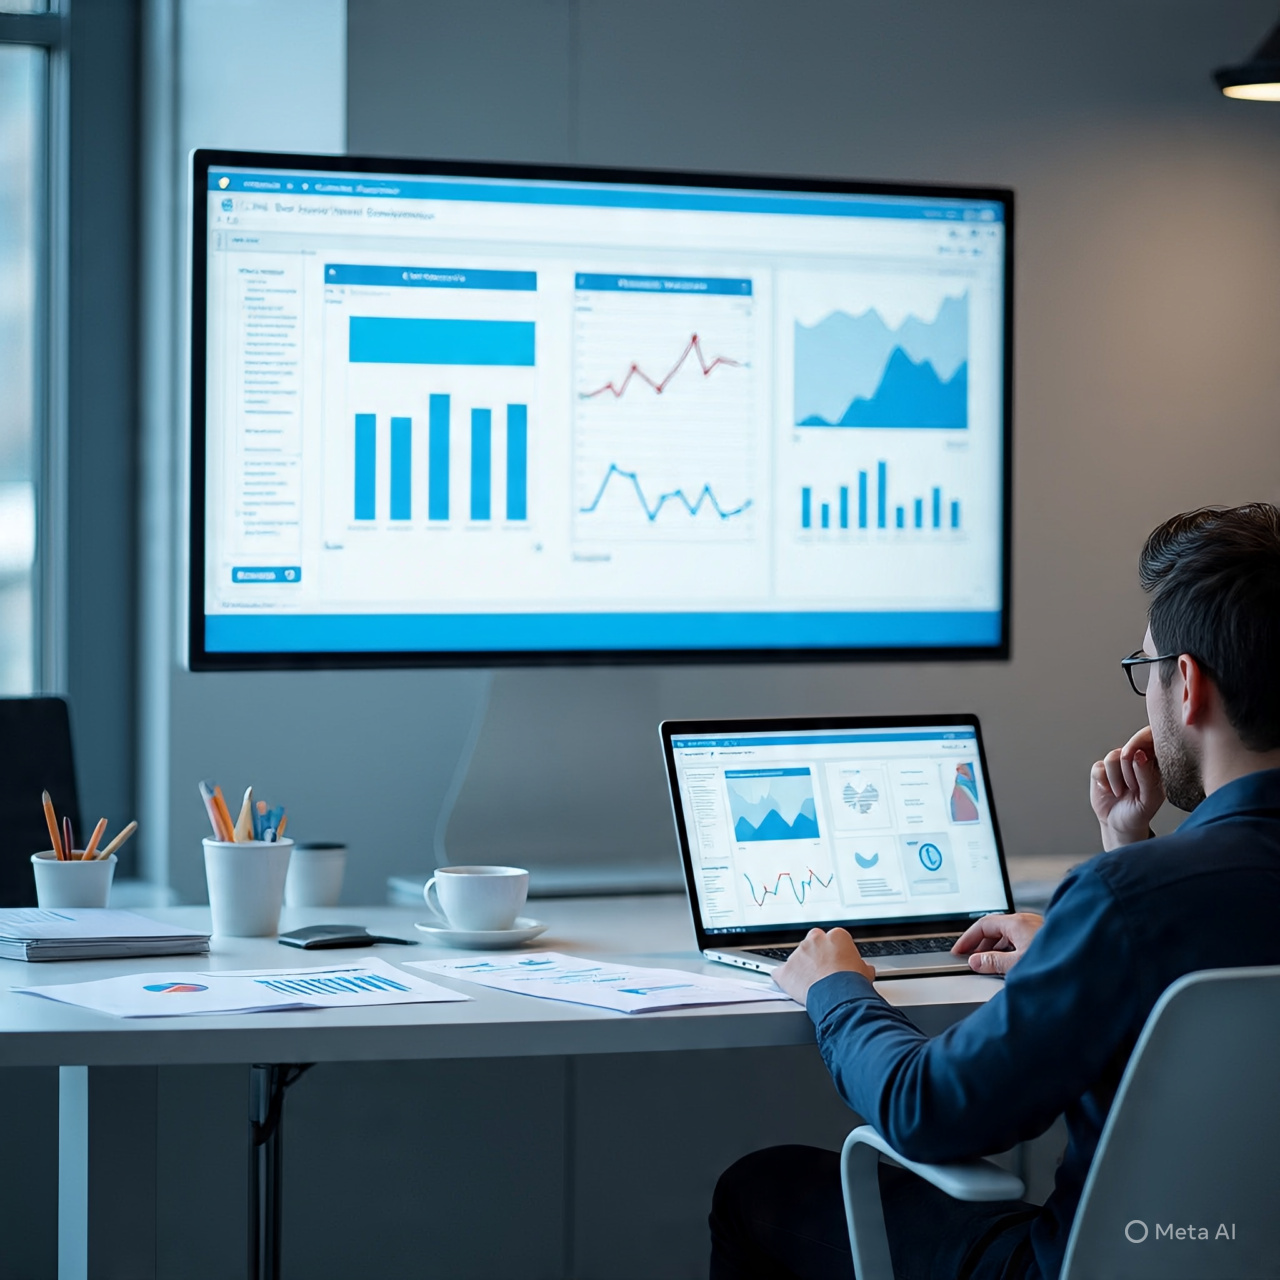

What the dashboard file says about the page in this screenshot:
{"tool":"powerbi","page":{"name":"Page 1","canvas":[1170,720],"ordinal":0},"visuals":[{"type":"clusteredBarChart","fields":{"Y":["Transactions.Customer ID"],"Category":["Transactions.City"]},"box":[12.5,101.6,277.1,280.9],"z":0},{"type":"pieChart","fields":{"Category":["Transactions.Delivery Mode"],"Y":["Transactions.Delivery Mode"]},"box":[298.5,102.8,279.6,279.6],"z":1000},{"type":"columnChart","fields":{"Category":["Products.Sub-Category"],"Y":["Transactions.Total Revenue"]},"box":[586.9,101.6,279.6,279.6],"z":2000},{"type":"clusteredBarChart","fields":{"Y":["Transactions.Quantity"],"Category":["Customers.Customer Name"]},"box":[875.3,101.6,279.6,279.6],"z":3000},{"type":"donutChart","fields":{"Category":["Transactions.Discount Simulator"],"Y":["Transactions.Discount Simulator"]},"box":[10,392.5,279.6,327.3],"z":4000},{"type":"textbox","box":[591.9,469,268.4,232],"z":5000},{"type":"textbox","box":[367.4,36.4,486.6,42.6],"z":6000},{"type":"slicer","fields":{"Values":["Transactions.Customer ID"]},"box":[591.9,392.5,268.4,64],"z":7000},{"type":"map","fields":{"Size":["Transactions.Total Revenue"],"Category":["Stores.City"]},"box":[298.5,392.5,279.6,327.3],"z":8000}]}

Visuals, with their boxes on the page's 1170x720 design canvas (x1, y1, x2, y2). These are canvas units, not pixel positions in the 1280x1280 screenshot, which may show the page scaled, cropped or inside an application window:
clusteredBarChart - Transactions.Customer ID x Transactions.City: 12 102 290 382
pieChart - Transactions.Delivery Mode x Transactions.Delivery Mode: 298 103 578 382
columnChart - Products.Sub-Category x Transactions.Total Revenue: 587 102 866 381
clusteredBarChart - Transactions.Quantity x Customers.Customer Name: 875 102 1155 381
donutChart - Transactions.Discount Simulator x Transactions.Discount Simulator: 10 392 290 720
textbox: 592 469 860 701
textbox: 367 36 854 79
slicer - Transactions.Customer ID: 592 392 860 456
map - Transactions.Total Revenue x Stores.City: 298 392 578 720
